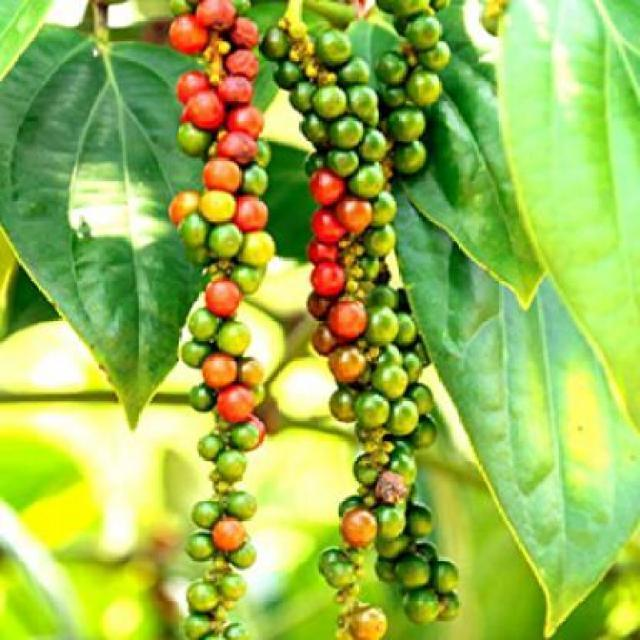RIPE: (165, 26, 277, 443), (306, 162, 399, 411)
